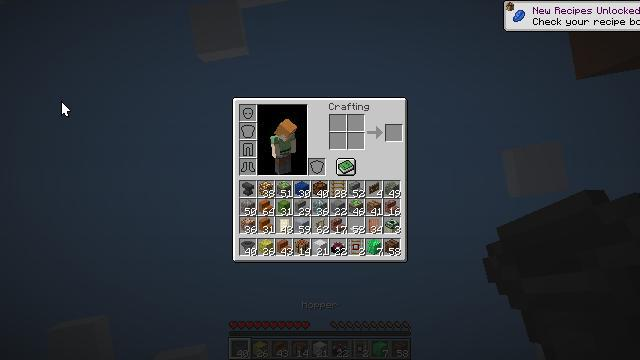cursor: (61, 101, 71, 117)
